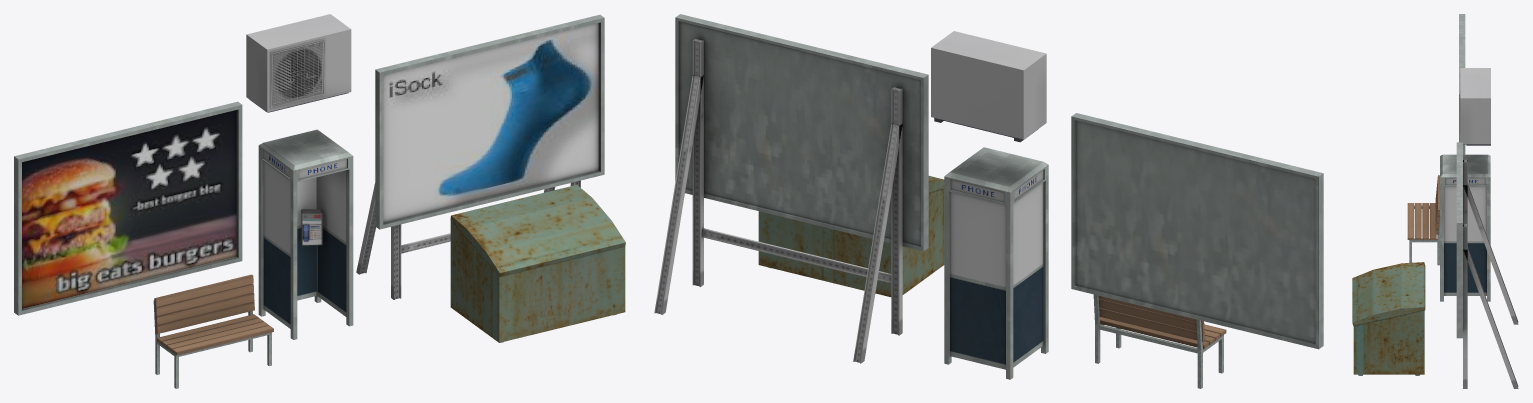
The model's file is UrbanPack3 - Street Props.fbx.
3 renders of one model, left to right at view 1: azimuth 30°, elevation 25°; view 2: azimuth 150°, elevation 25°; view 3: azimuth 270°, elevation 25°, orthographic. The views are drawn at different scales.
Parts seen in each view (by area): view 1: StandingBillboard.001, Billboard.001, PhoneBox, Dumpster.001, Dumpster.002, ACUnit, Bench; view 2: StandingBillboard.001, Billboard.001, PhoneBox, ACUnit, Dumpster.001, Bench; view 3: PhoneBox, StandingBillboard.001, Dumpster.001, Dumpster.002, ACUnit, Bench, Billboard.001.
Boxes of the visible parts, left/top/right/bottom form: StandingBillboard.001: left=356, top=14, right=604, bottom=299; Billboard.001: left=14, top=101, right=242, bottom=315; PhoneBox: left=258, top=129, right=353, bottom=339; Dumpster.001: left=450, top=220, right=625, bottom=342; Dumpster.002: left=450, top=185, right=625, bottom=276; ACUnit: left=246, top=14, right=351, bottom=112; Bench: left=153, top=274, right=273, bottom=388; StandingBillboard.001: left=654, top=14, right=928, bottom=363; Billboard.001: left=1071, top=113, right=1323, bottom=349; PhoneBox: left=944, top=147, right=1048, bottom=379; ACUnit: left=931, top=31, right=1046, bottom=142; Dumpster.001: left=758, top=189, right=944, bottom=296; Bench: left=1093, top=294, right=1226, bottom=388; PhoneBox: left=1440, top=154, right=1490, bottom=301; StandingBillboard.001: left=1456, top=142, right=1518, bottom=388; Dumpster.001: left=1353, top=310, right=1424, bottom=375; Dumpster.002: left=1352, top=262, right=1425, bottom=326; ACUnit: left=1460, top=68, right=1490, bottom=145; Bench: left=1407, top=175, right=1439, bottom=265; Billboard.001: left=1459, top=14, right=1465, bottom=154.
Bounding box in the file's own units: 1948 × 902 × 653.
Materials: 6 (6 with a texture image).
